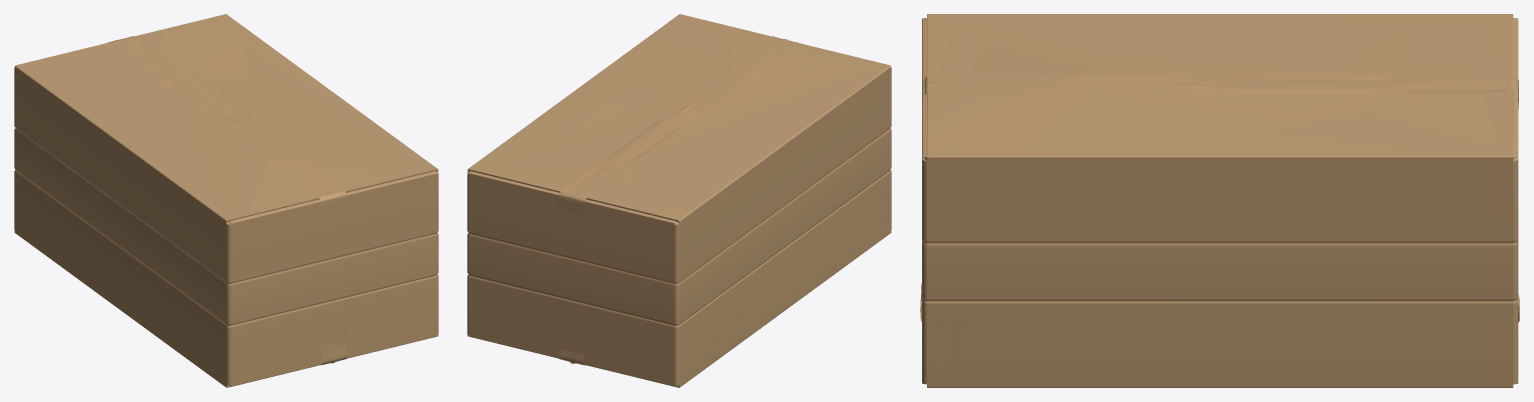
The model's file is box_multiDepth_brown_b06.glb.
3 views of the same model, side by side, from view 1: azimuth 30°, elevation 25°; view 2: azimuth 150°, elevation 25°; view 3: azimuth 270°, elevation 25° (orthographic). The views are drawn at different scales.
Size of the model in its own units: 0.2023 by 0.1551 by 0.357.
